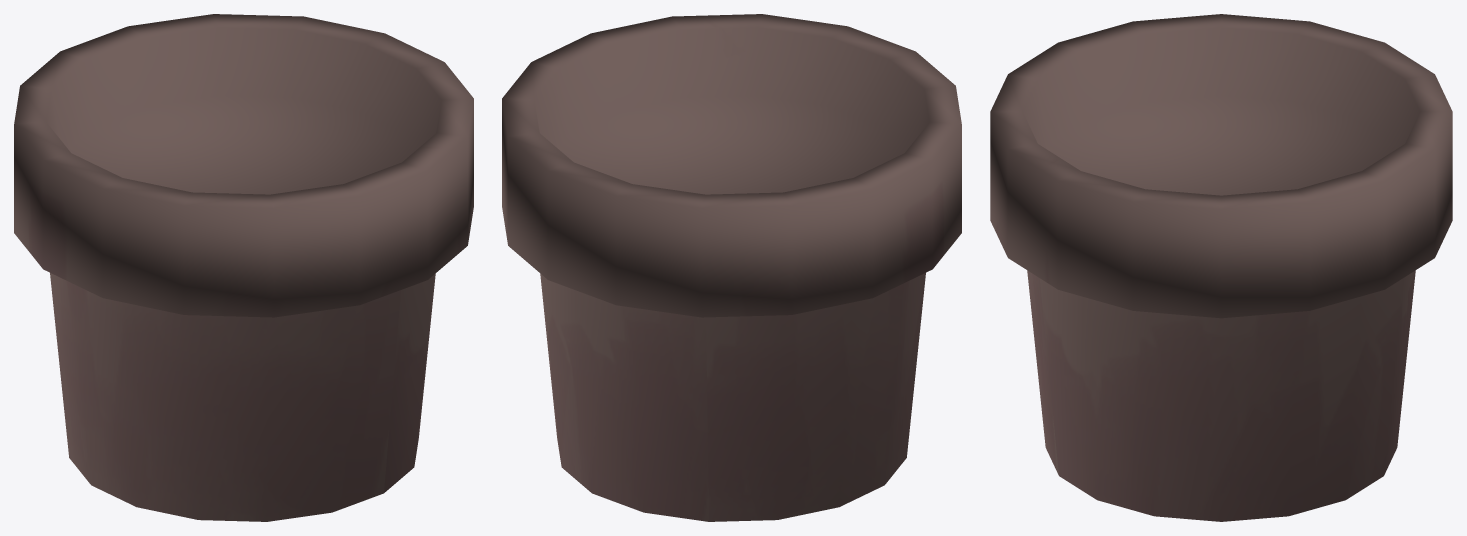
File: VasoDePlanta.fbx
The picture shows the model from 3 angles, left to right: view 1: azimuth 30°, elevation 25°; view 2: azimuth 150°, elevation 25°; view 3: azimuth 270°, elevation 25°; orthographic projection.
Visible parts, largest first — view 1: Planta; view 2: Planta; view 3: Planta.
Boxes of the visible parts, box(x1,y1,x2,y2) form: Planta: box(14, 14, 473, 521); Planta: box(502, 14, 961, 521); Planta: box(990, 14, 1452, 521).
Bounding box in the file's own units: 55.62 × 55.62 × 44.6.
